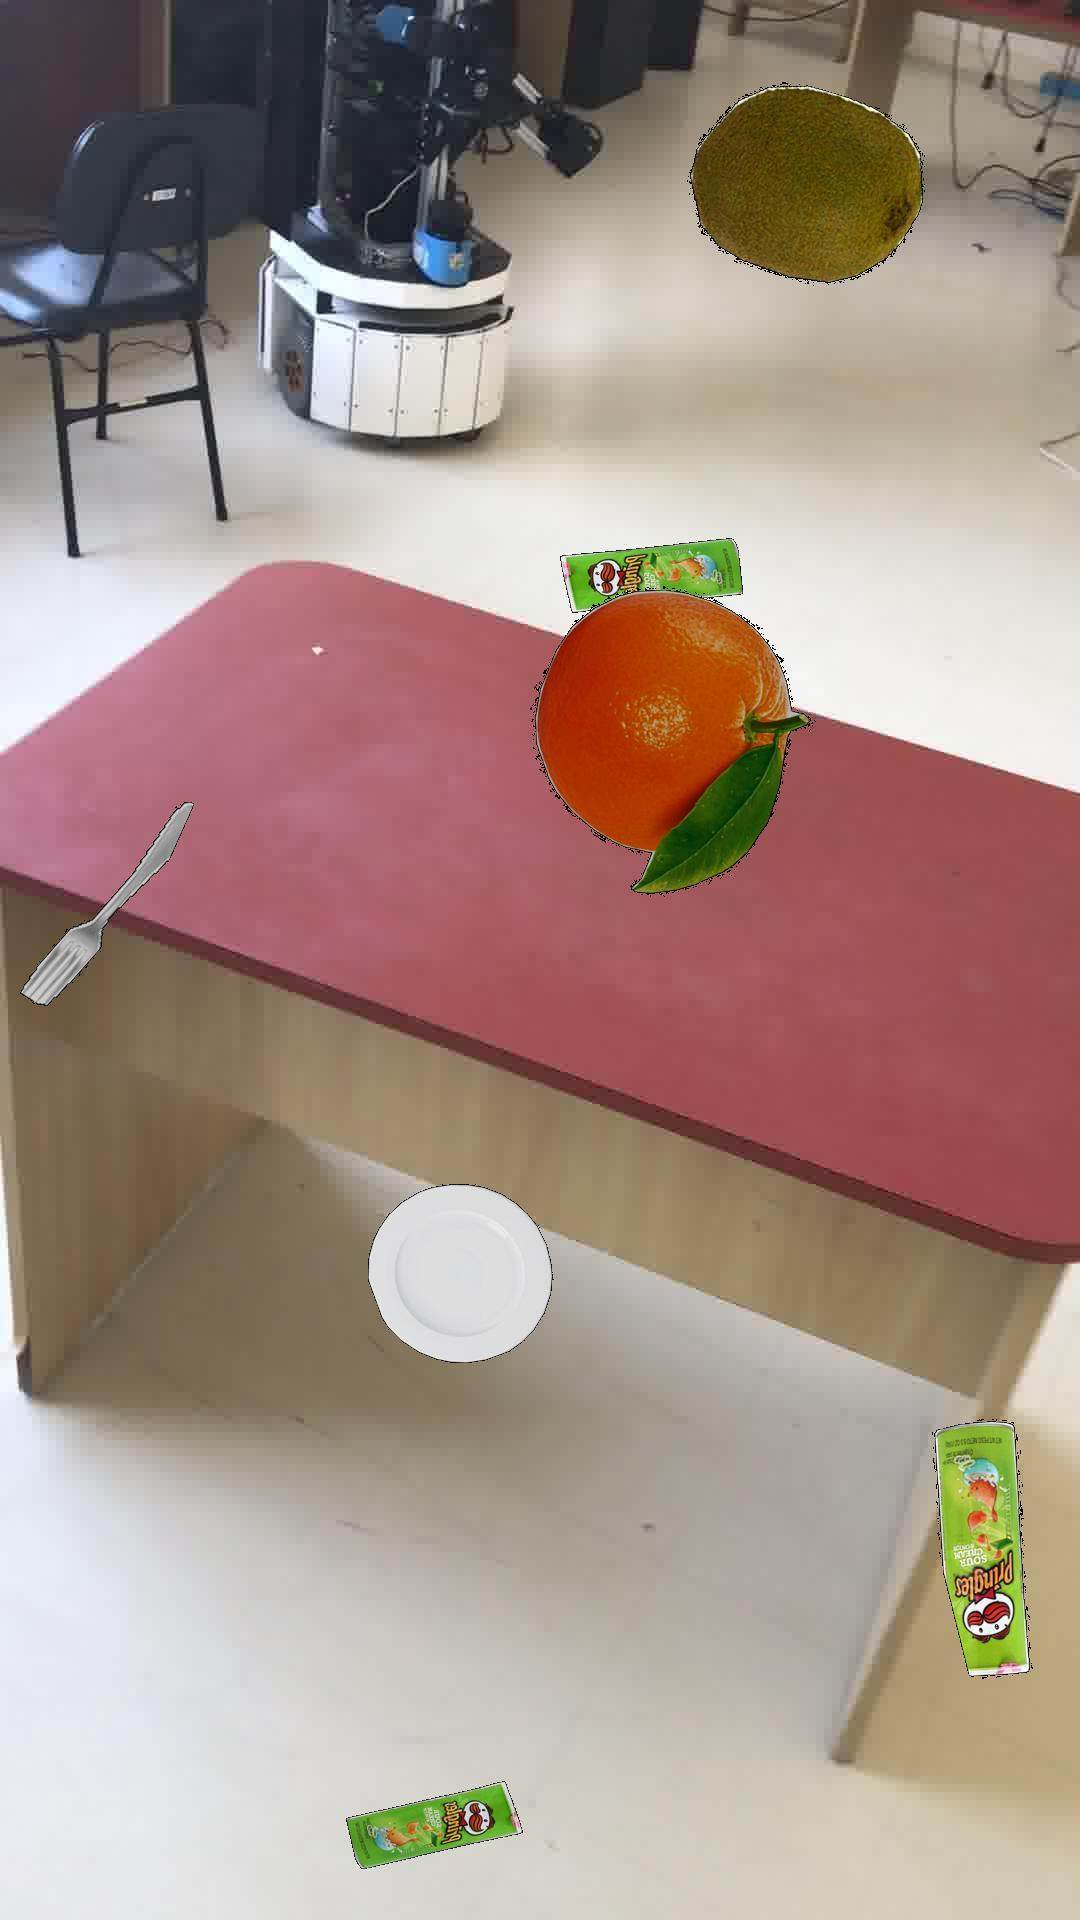fork: (18, 800, 193, 1005)
kiwi: (687, 83, 923, 282)
orange: (531, 587, 810, 894)
plate: (367, 1183, 553, 1361)
pringles: (932, 1419, 1030, 1676), (344, 1779, 521, 1867), (559, 537, 741, 612)
